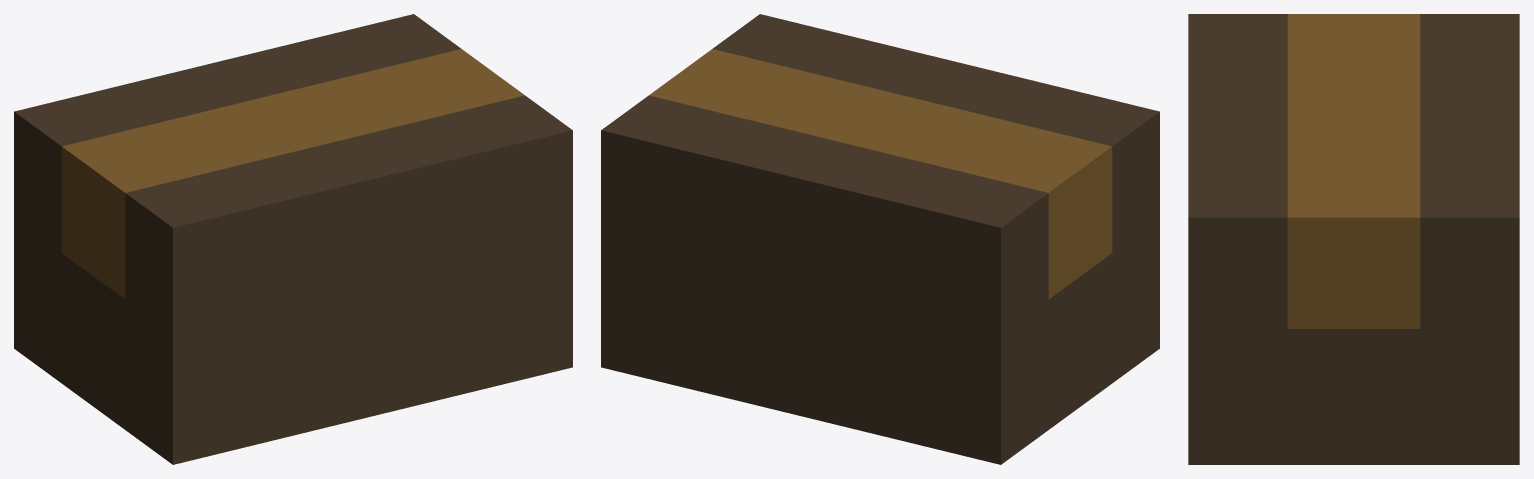
The model's file is CartonBox_SealUp.fbx.
The picture shows the model from 3 angles, left to right: view 1: azimuth 30°, elevation 25°; view 2: azimuth 150°, elevation 25°; view 3: azimuth 270°, elevation 25°; orthographic projection. The views are drawn at different scales.
Visible parts, largest first — view 1: pCube2; view 2: pCube2; view 3: pCube2.
Boxes of the visible parts, bbox=[...] form: pCube2: bbox=[14, 14, 572, 464]; pCube2: bbox=[601, 14, 1159, 464]; pCube2: bbox=[1188, 14, 1519, 464].
Size of the model in its own units: 62.12 by 35.2 by 42.76.
